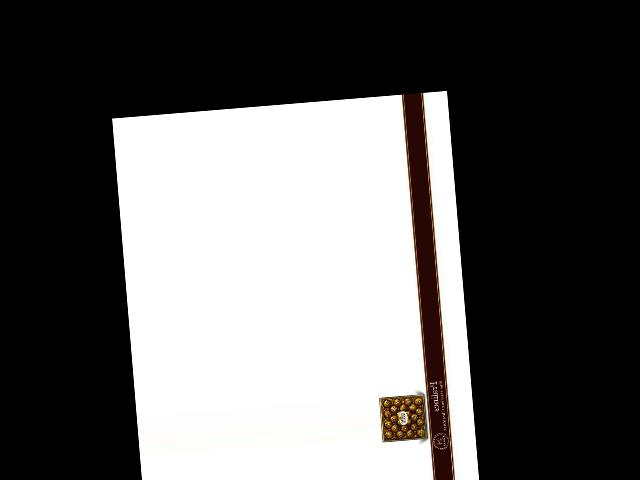chocolate: (375, 392, 430, 445)
